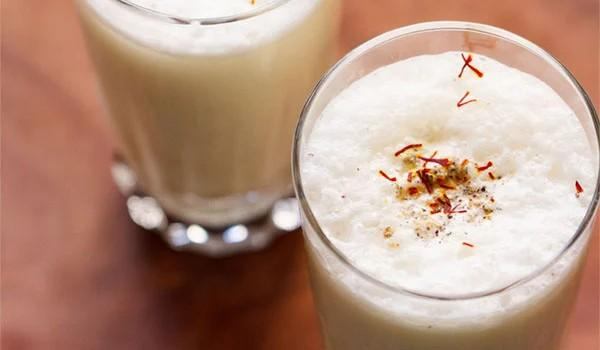Lassi: (298, 51, 599, 350), (72, 0, 346, 228)
